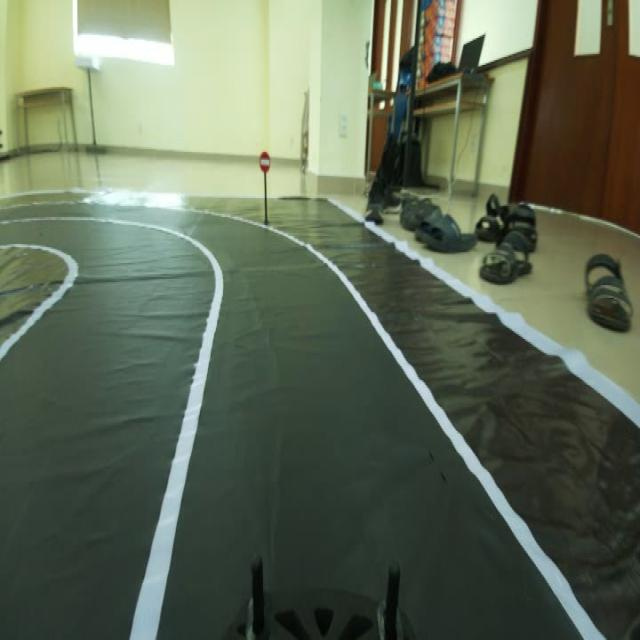no_entry: (253, 144, 274, 178)
